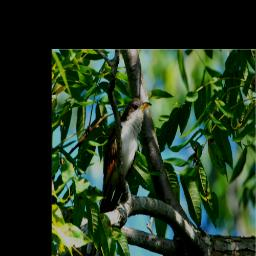Cuckoo: (99, 97, 152, 212)
